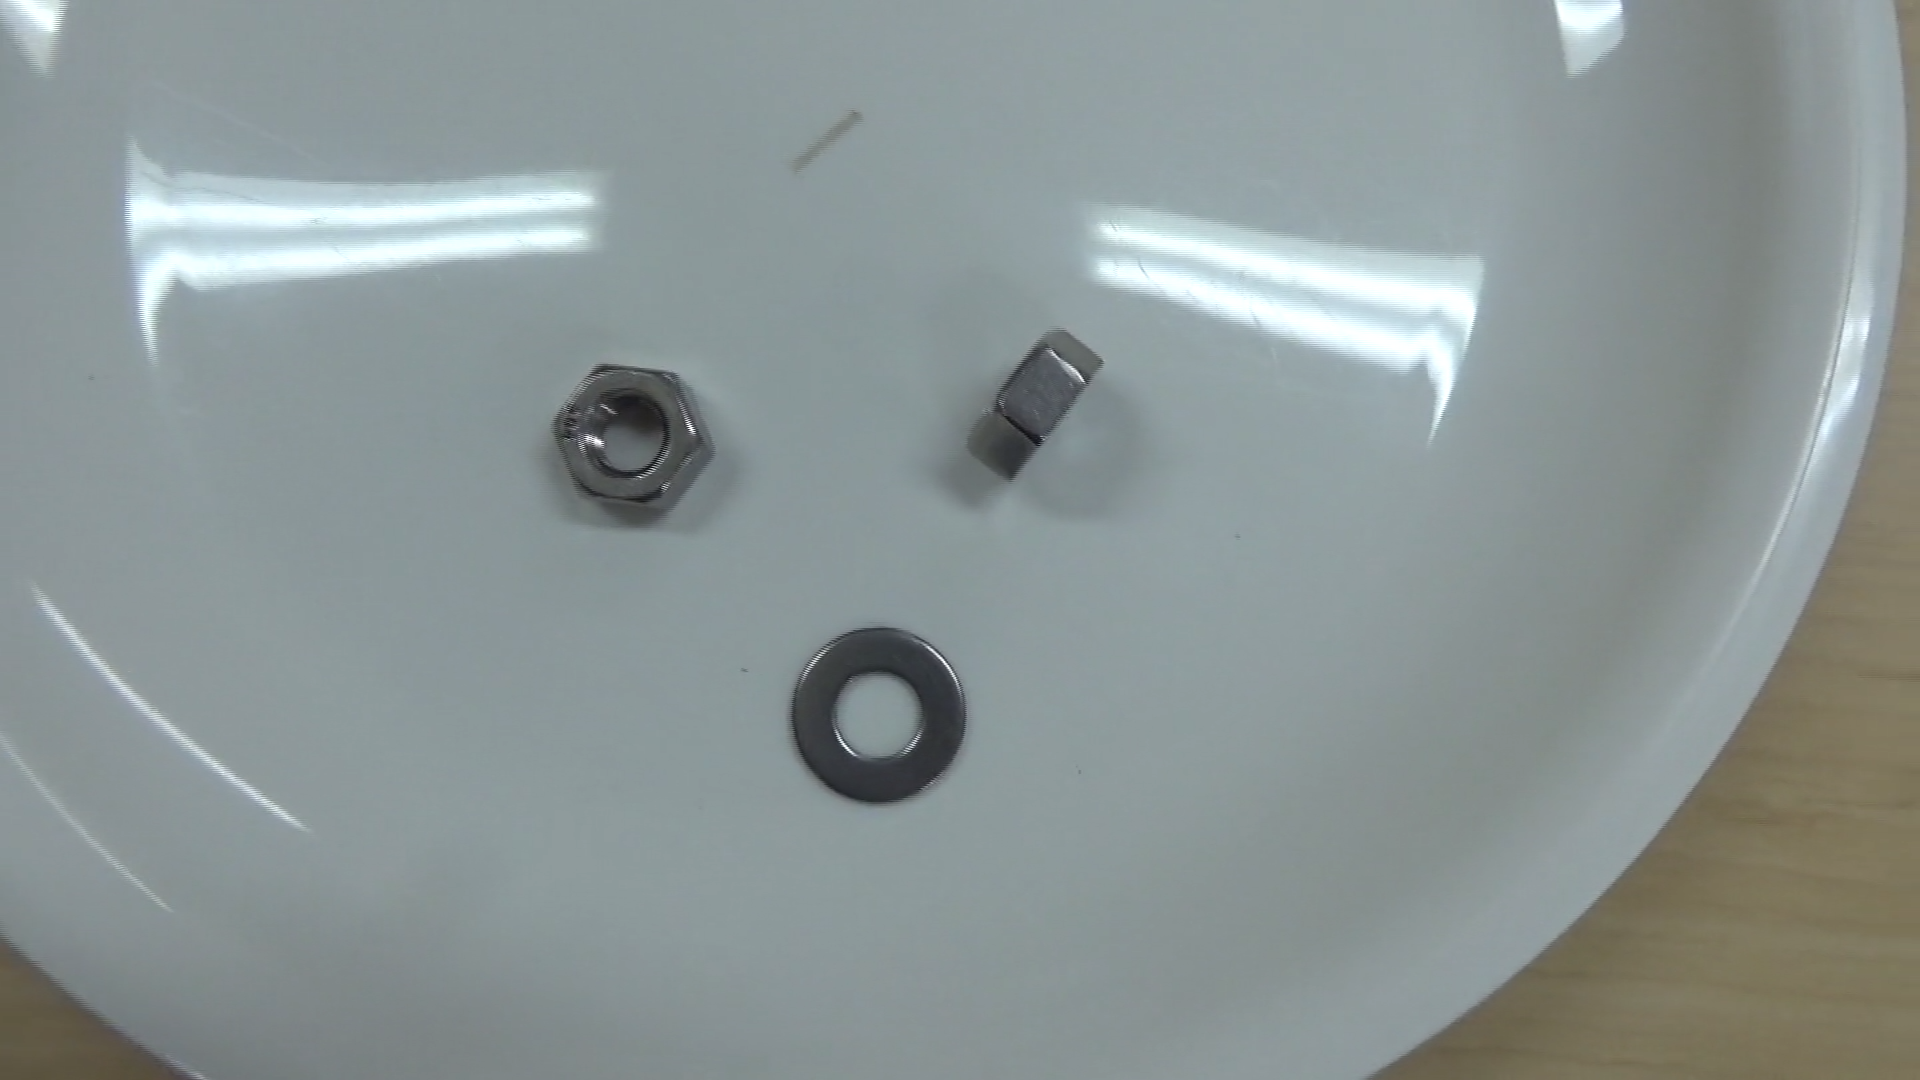nut: (538, 338, 725, 524), (949, 306, 1117, 493)
washer: (773, 613, 978, 815)
